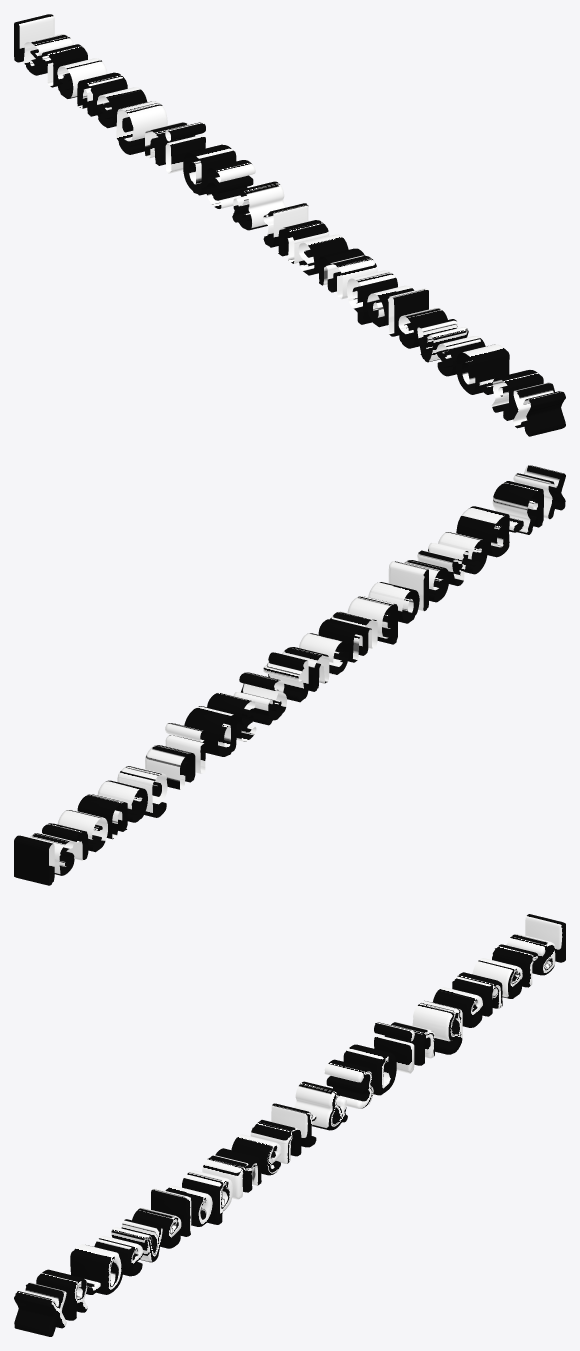
The model's file is Underline.gltf.
3 views of the same model, one above another, from view 1: azimuth 30°, elevation 25°; view 2: azimuth 150°, elevation 25°; view 3: azimuth 330°, elevation 25° (orthographic).
Visible parts, largest first — view 1: path0.002; view 2: path0.002; view 3: path0.002.
Boxes of the visible parts, x1=… form: path0.002: x1=14, y1=14, x2=565, y2=436; path0.002: x1=14, y1=465, x2=565, y2=885; path0.002: x1=14, y1=914, x2=565, y2=1336.
Bounding box in the file's own units: 11.8 × 16.7 × 290.
Materials: 1 (1 with a texture image).
